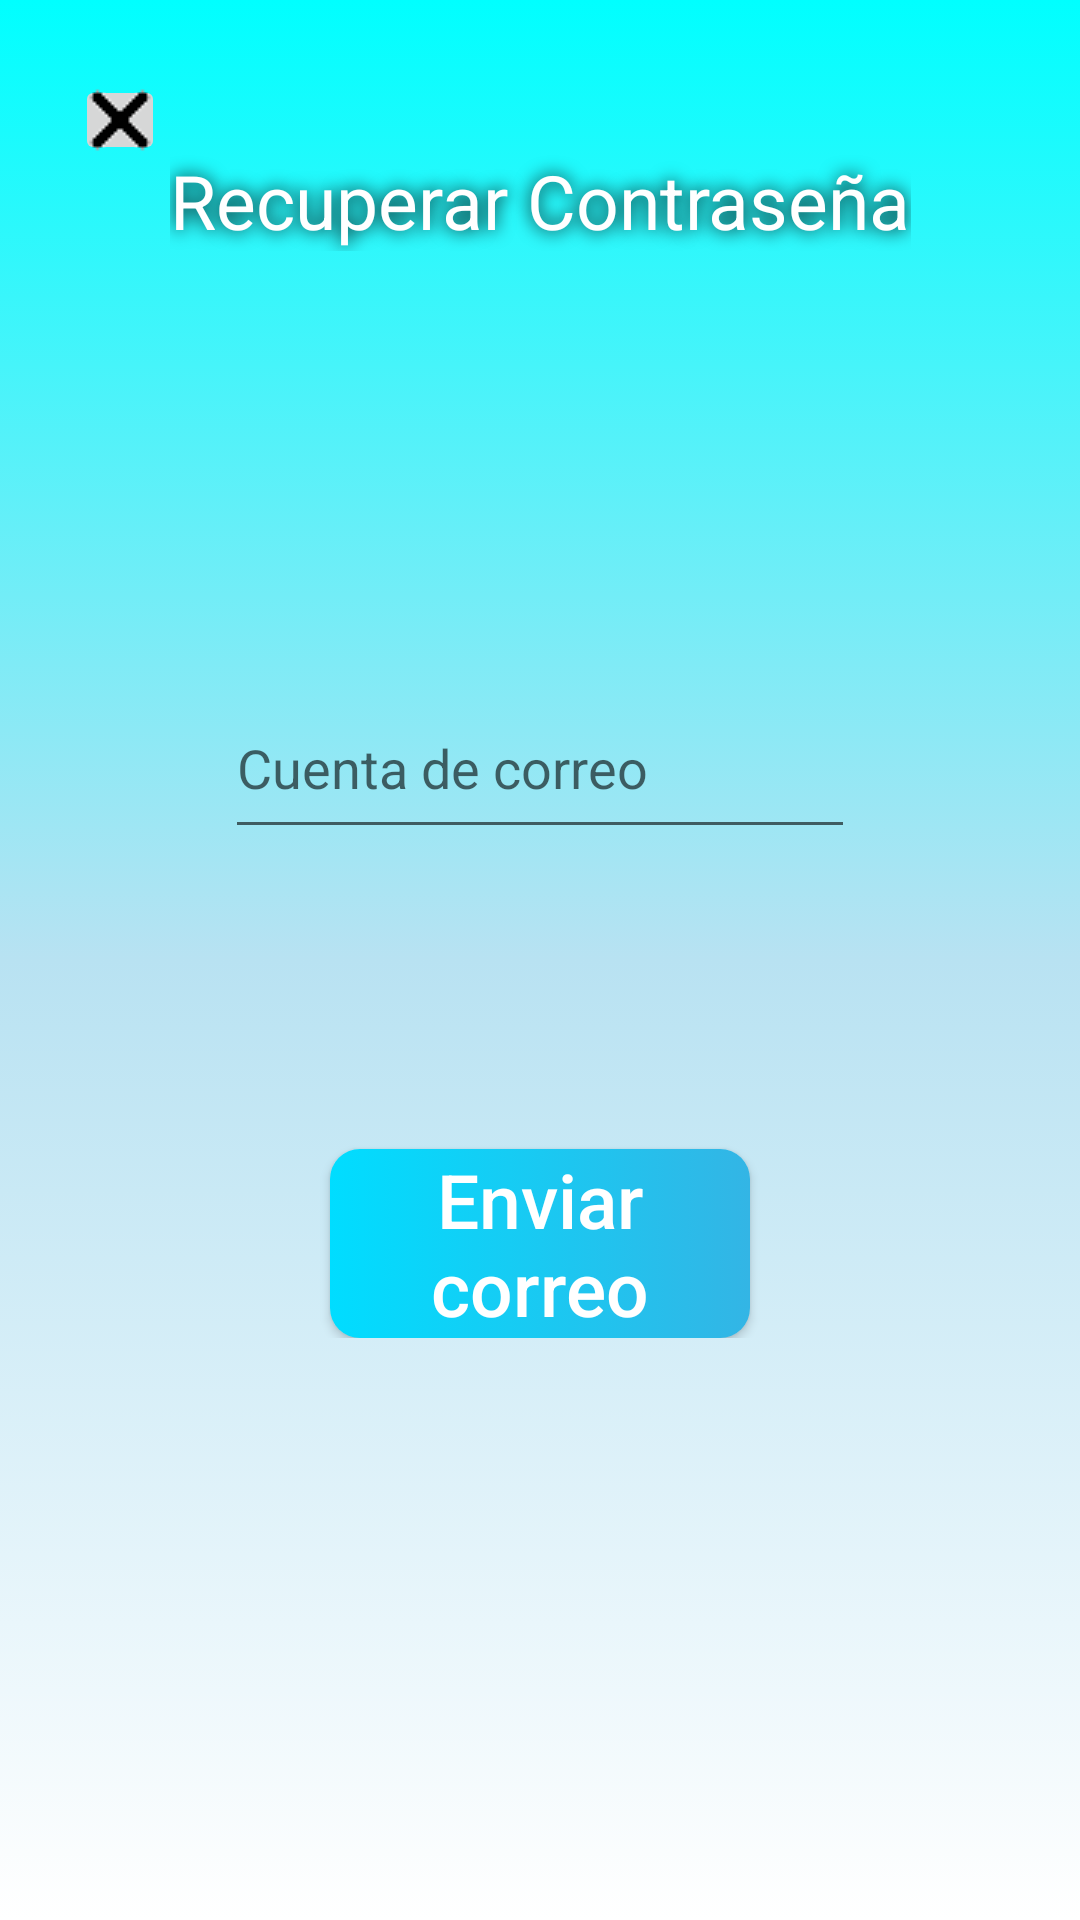

Where to tap for icons on this 1080 x 1920 app screen, as (x=x, y=y):
Return Button: (x=120, y=120)
